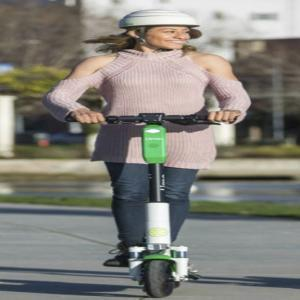helmet: (117, 7, 205, 55)
human: (44, 8, 246, 266)
kickboard: (101, 244, 200, 298)
